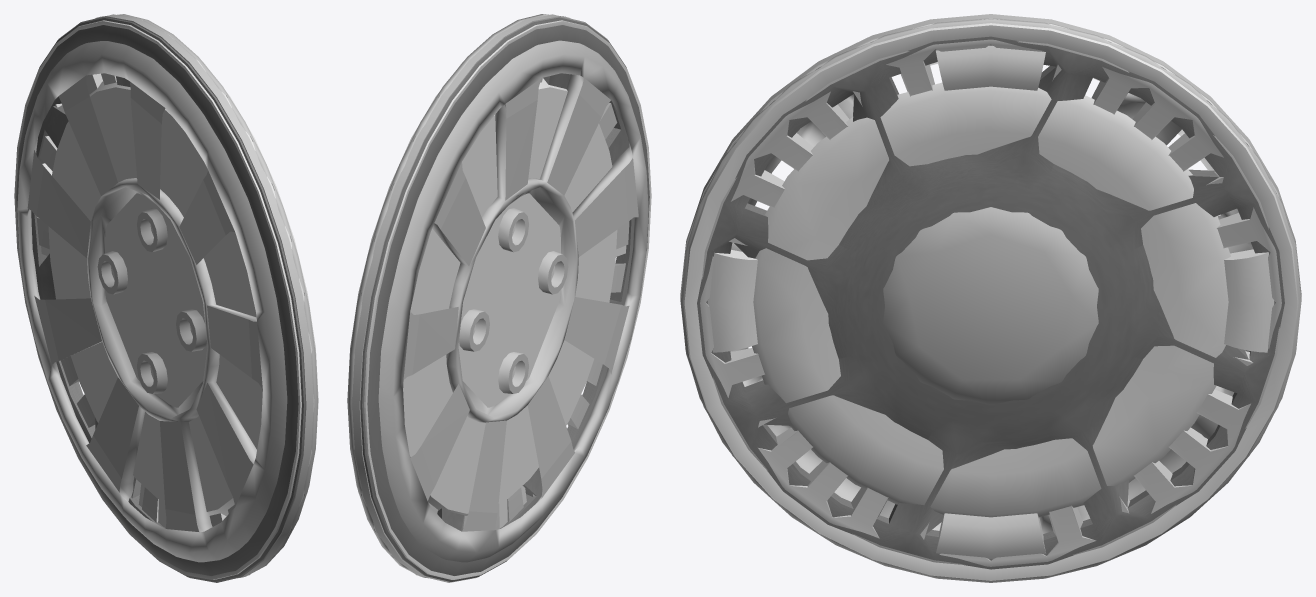
Rendered from p1_hubcaps.dae.
3 views of the same model, side by side, from view 1: azimuth 30°, elevation 25°; view 2: azimuth 150°, elevation 25°; view 3: azimuth 270°, elevation 25° (orthographic). The views are drawn at different scales.
Visible parts, largest first — view 1: autron_hubcap_2_13, autron_hubcap_4_base_13, autron_hubcap_3_13, autron_hubcap_1_13, autron_hubcap_4_corner_13; view 2: autron_hubcap_2_13, autron_hubcap_4_base_13, autron_hubcap_3_13, autron_hubcap_1_13; view 3: autron_hubcap_4_base_13, autron_hubcap_3_13, autron_hubcap_2_13, autron_hubcap_1_13, autron_hubcap_4_corner_13.
Part boxes in pixels (x1,y1,x2,y2): autron_hubcap_2_13: (17, 14, 317, 578); autron_hubcap_4_base_13: (14, 20, 318, 579); autron_hubcap_3_13: (16, 17, 305, 581); autron_hubcap_1_13: (36, 14, 313, 582); autron_hubcap_4_corner_13: (41, 163, 166, 527); autron_hubcap_2_13: (348, 14, 648, 578); autron_hubcap_4_base_13: (347, 20, 651, 579); autron_hubcap_3_13: (360, 17, 649, 581); autron_hubcap_1_13: (352, 14, 629, 582); autron_hubcap_4_base_13: (680, 18, 1301, 580); autron_hubcap_3_13: (697, 36, 1284, 569); autron_hubcap_2_13: (681, 19, 1300, 582); autron_hubcap_1_13: (680, 14, 1301, 566); autron_hubcap_4_corner_13: (707, 45, 1274, 559).
Size of the model in its own units: 0.0342 by 0.3627 by 0.3627.
Materials: 4 (1 with a texture image).
